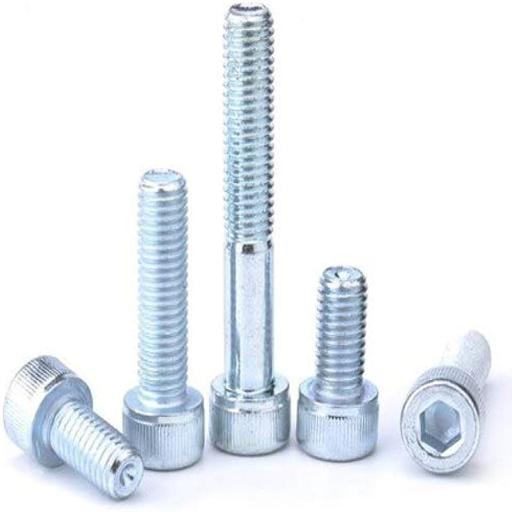Hex-Allen: (399, 370, 482, 480)
